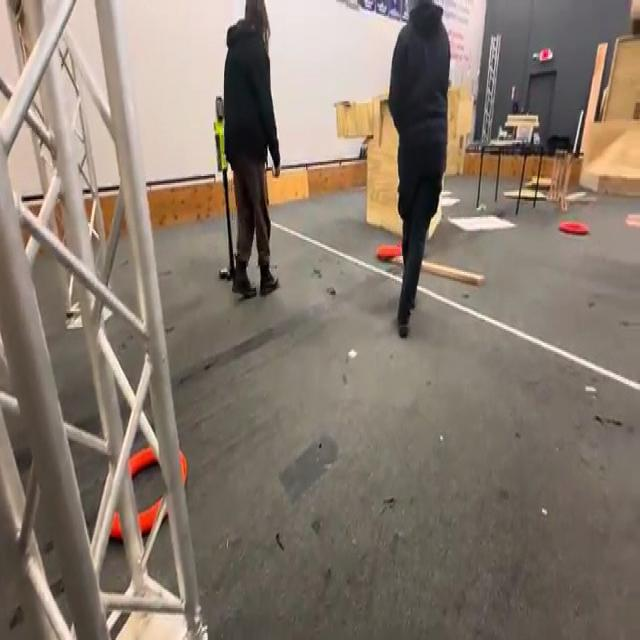note: (106, 441, 192, 542), (558, 219, 590, 236), (377, 244, 402, 262)
